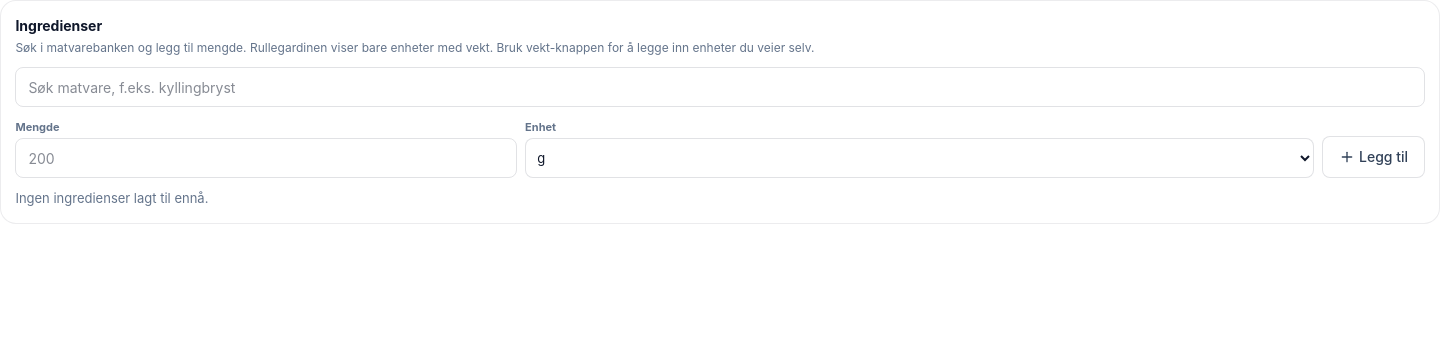
RecipeIngredientEditor › åpner valgt ts med eksisterende vekt for knuste linfrø
This screenshot has width=1440, height=341.
Type "linfrø" into the field labelled "Søk matvare".
click(720, 87); type("linfrø")  # box 15,67 -> 1425,107
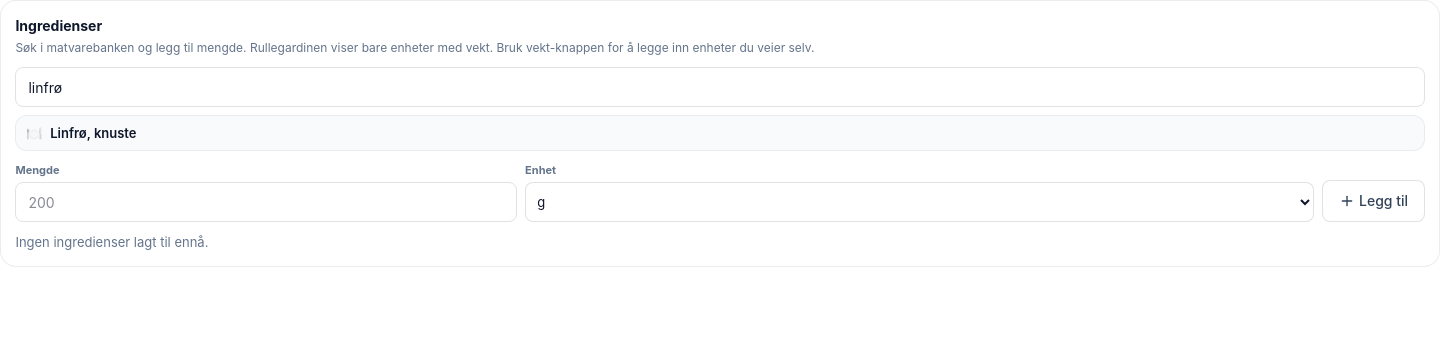
Click the button "🍽️ Linfrø, knuste".
click(93, 133)  # box 15,115 -> 1425,151
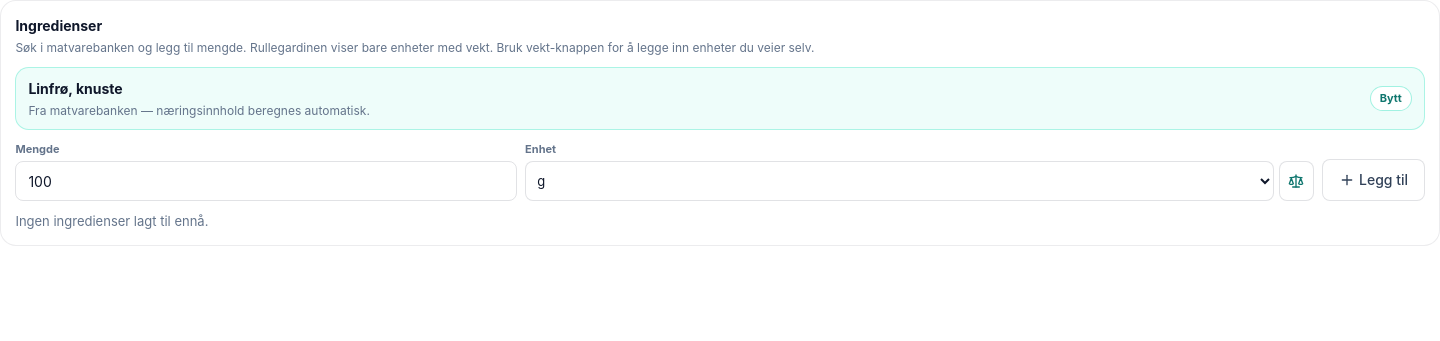
Select "ts" in the dropdown named "Enhet" at (900, 181), box 525,161 -> 1274,201
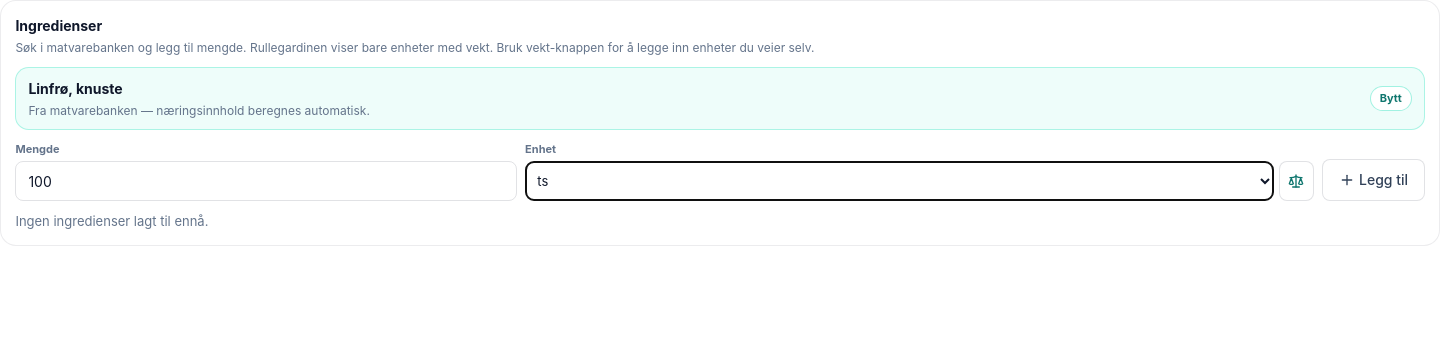
Click the button named "enhetsvekt".
click(1296, 181)  # box 1279,161 -> 1314,201
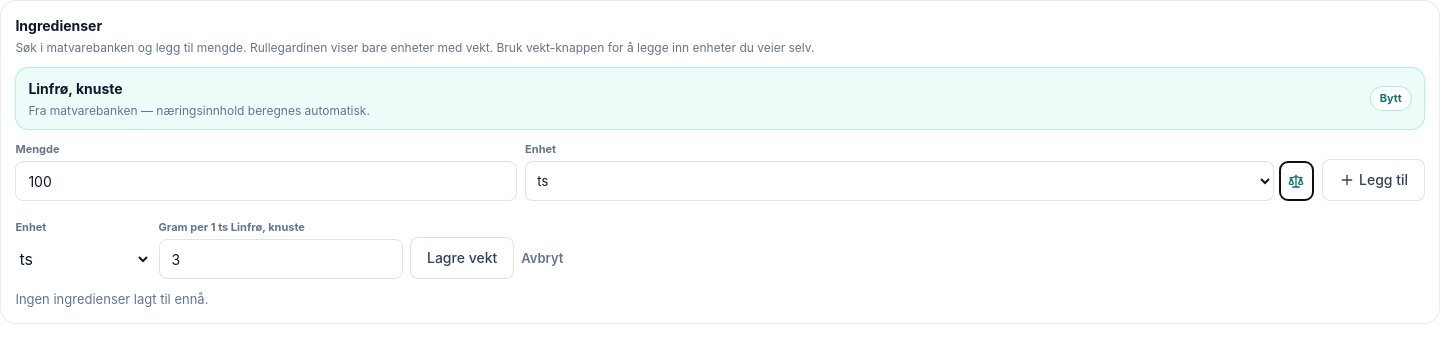
Result: the dropdown named "Enhet for vekt på Linfrø, knuste" shows "ts" at 15,239 -> 151,279
Result: the field labelled "Gram per 1 ts Linfrø, knuste" holds "3" at 159,239 -> 403,279
